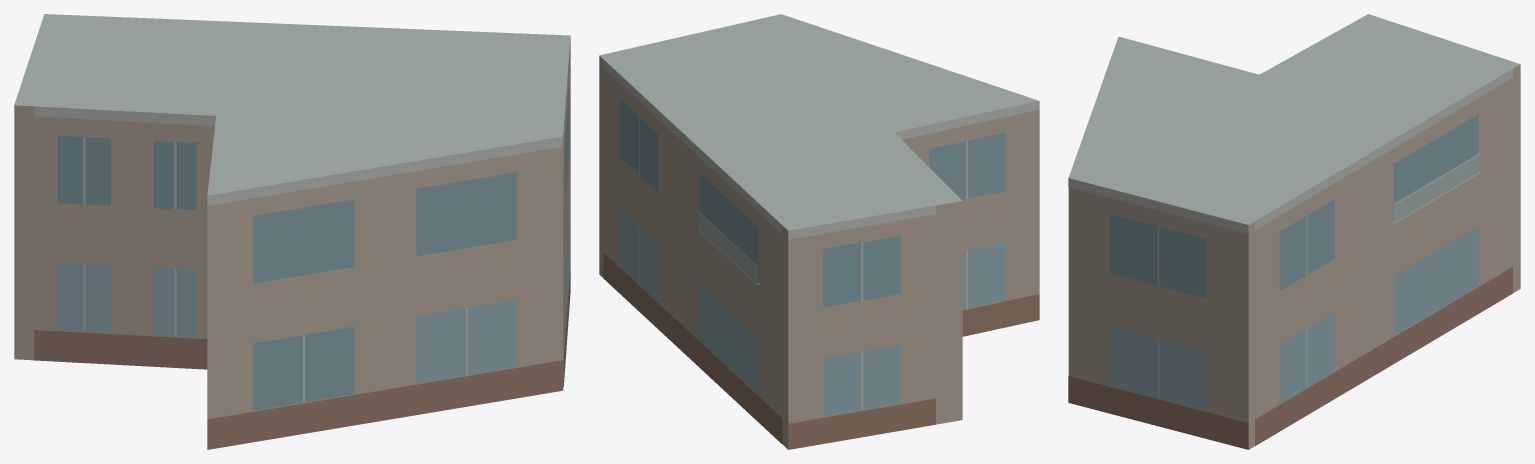
Rendered from survey-upis-32928481.glb.
3 views of the same model, side by side, from view 1: azimuth 30°, elevation 25°; view 2: azimuth 150°, elevation 25°; view 3: azimuth 270°, elevation 25° (orthographic). The views are drawn at different scales.
Visible parts, largest first — view 1: survey-upis-32928481.tmp; view 2: survey-upis-32928481.tmp; view 3: survey-upis-32928481.tmp.
Boxes of the visible parts, left/top/right/bottom form: survey-upis-32928481.tmp: left=14, top=14, right=570, bottom=449; survey-upis-32928481.tmp: left=599, top=14, right=1039, bottom=449; survey-upis-32928481.tmp: left=1068, top=14, right=1520, bottom=449.
Size of the model in its own units: 12.29 by 6.1 by 11.13.
